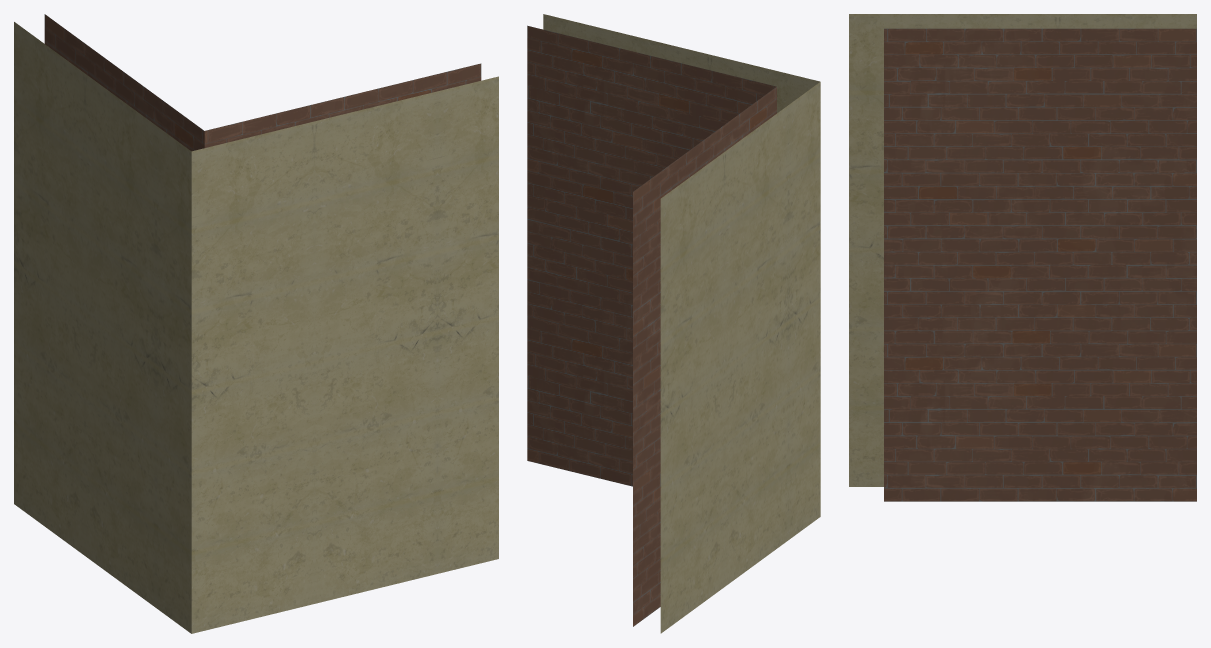
The model's file is Marble_Corner_Plain.gltf.
The picture shows the model from 3 angles, left to right: view 1: azimuth 30°, elevation 25°; view 2: azimuth 150°, elevation 25°; view 3: azimuth 270°, elevation 25°; orthographic projection. The views are drawn at different scales.
Parts seen in each view (by area): view 1: Marble_Corner_Plain; view 2: Marble_Corner_Plain; view 3: Marble_Corner_Plain.
Part boxes in pixels (<box>): Marble_Corner_Plain: <box>14,14,498,633</box>; Marble_Corner_Plain: <box>527,14,820,633</box>; Marble_Corner_Plain: <box>849,14,1196,501</box>.
Size of the model in its own units: 2 by 3 by 2.
2 materials, 2 textured.
